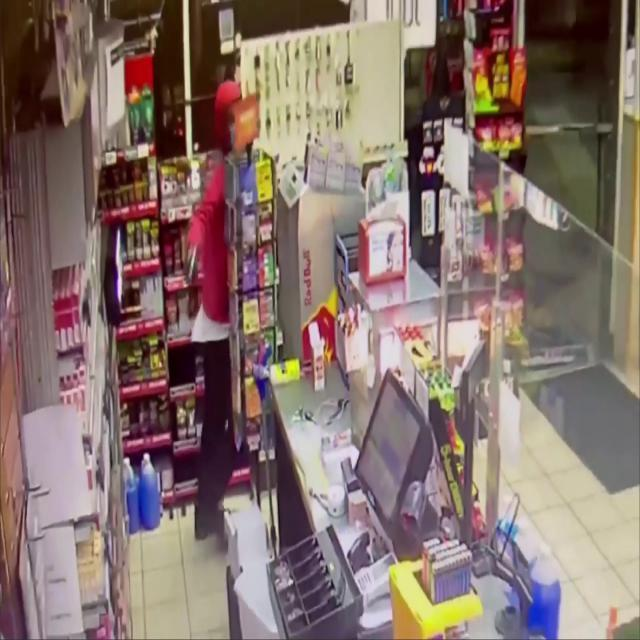gun: (186, 240, 205, 286)
